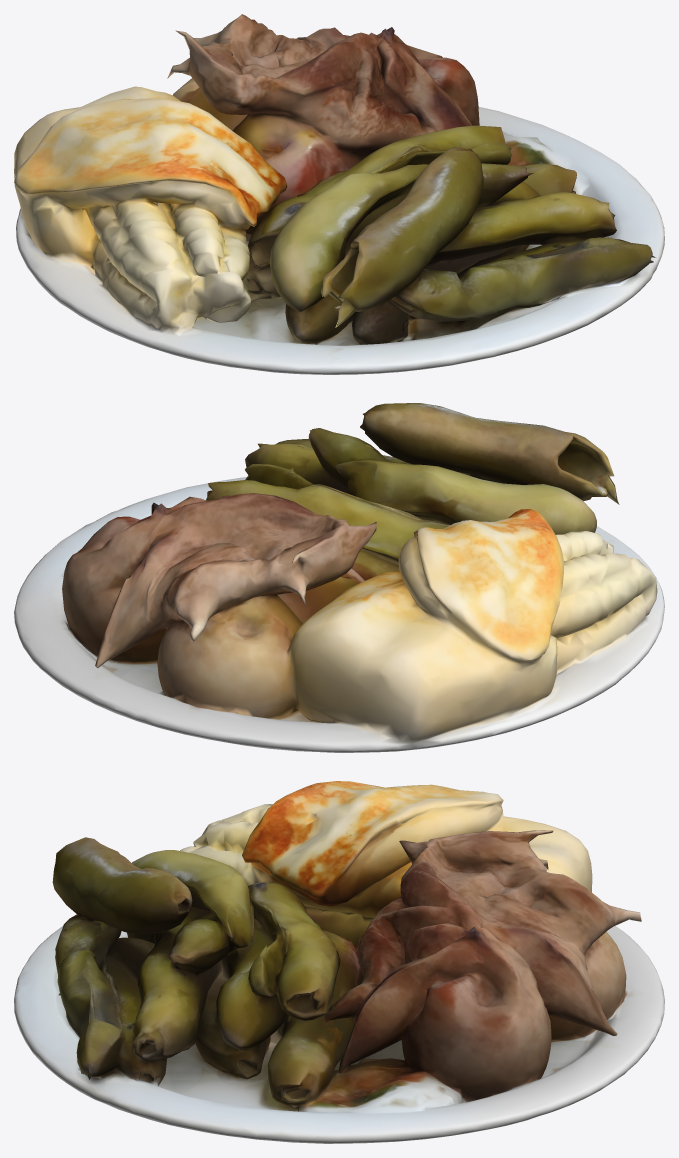
Rendered from PlatoPaceñoModel.glb.
The picture shows the model from 3 angles, top to bottom: view 1: azimuth 30°, elevation 25°; view 2: azimuth 150°, elevation 25°; view 3: azimuth 270°, elevation 25°; orthographic projection.
Visible parts, largest first — view 1: tripo_node_5b4ff3bc-d2c0-43b5-8711-91b182e6bc68; view 2: tripo_node_5b4ff3bc-d2c0-43b5-8711-91b182e6bc68; view 3: tripo_node_5b4ff3bc-d2c0-43b5-8711-91b182e6bc68.
Part boxes in pixels (x1=…): tripo_node_5b4ff3bc-d2c0-43b5-8711-91b182e6bc68: x1=14, y1=14, x2=664, y2=374; tripo_node_5b4ff3bc-d2c0-43b5-8711-91b182e6bc68: x1=14, y1=403, x2=664, y2=752; tripo_node_5b4ff3bc-d2c0-43b5-8711-91b182e6bc68: x1=14, y1=781, x2=664, y2=1143.
Size of the model in its own units: 1 by 0.2879 by 0.9992.
1 material, 1 textured.
